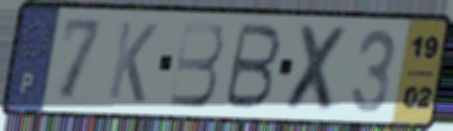3: (349, 26, 397, 115)
7: (59, 15, 104, 105)
B: (220, 21, 284, 112), (166, 19, 227, 110)
K: (105, 18, 161, 107)
X: (281, 21, 353, 116)
